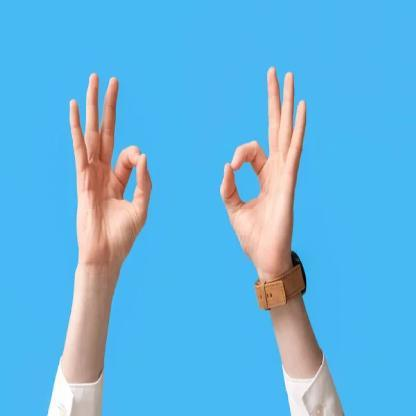ok: (219, 60, 308, 276), (66, 66, 156, 274)
